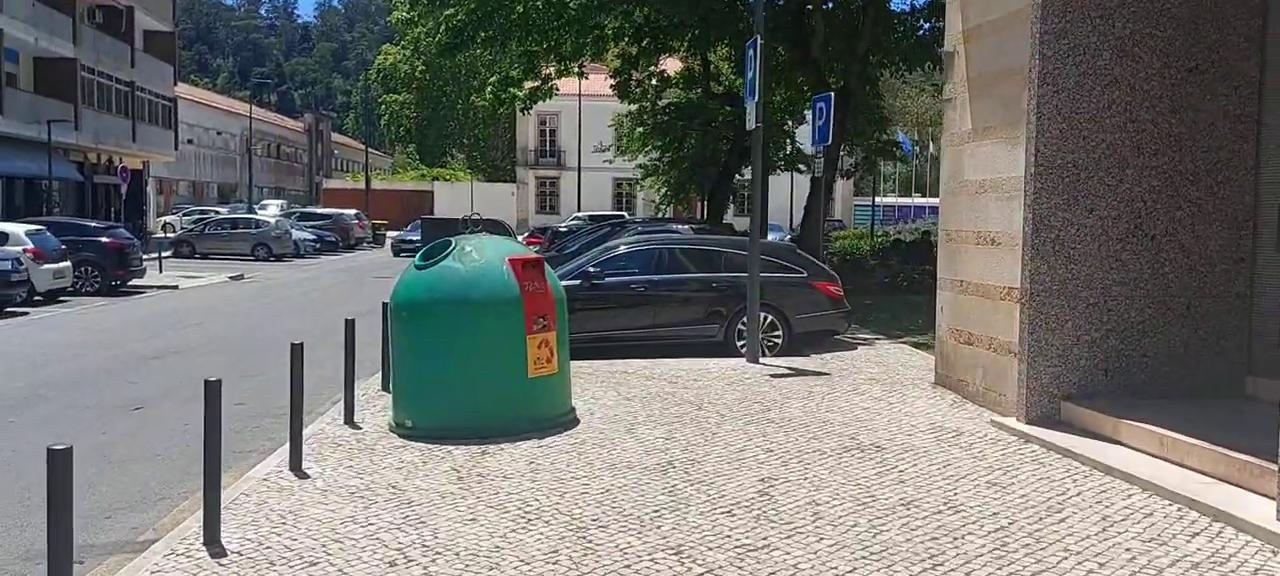Estacionamento autorizado: (809, 89, 837, 152)
